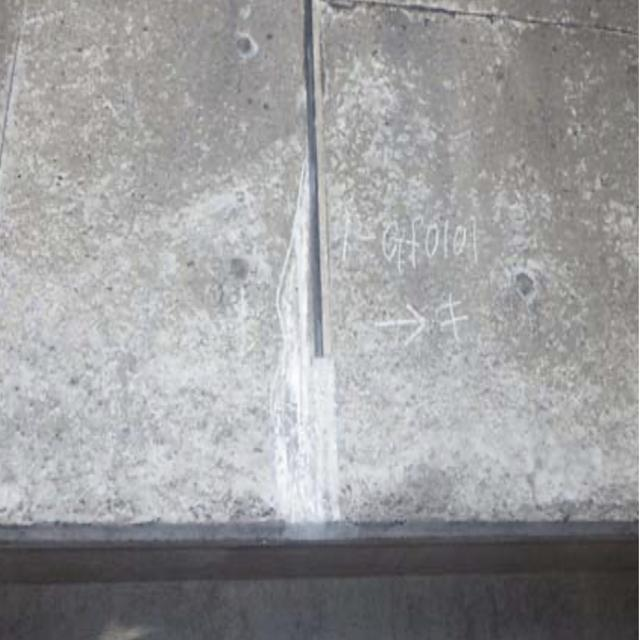freelime: (274, 158, 357, 542)
